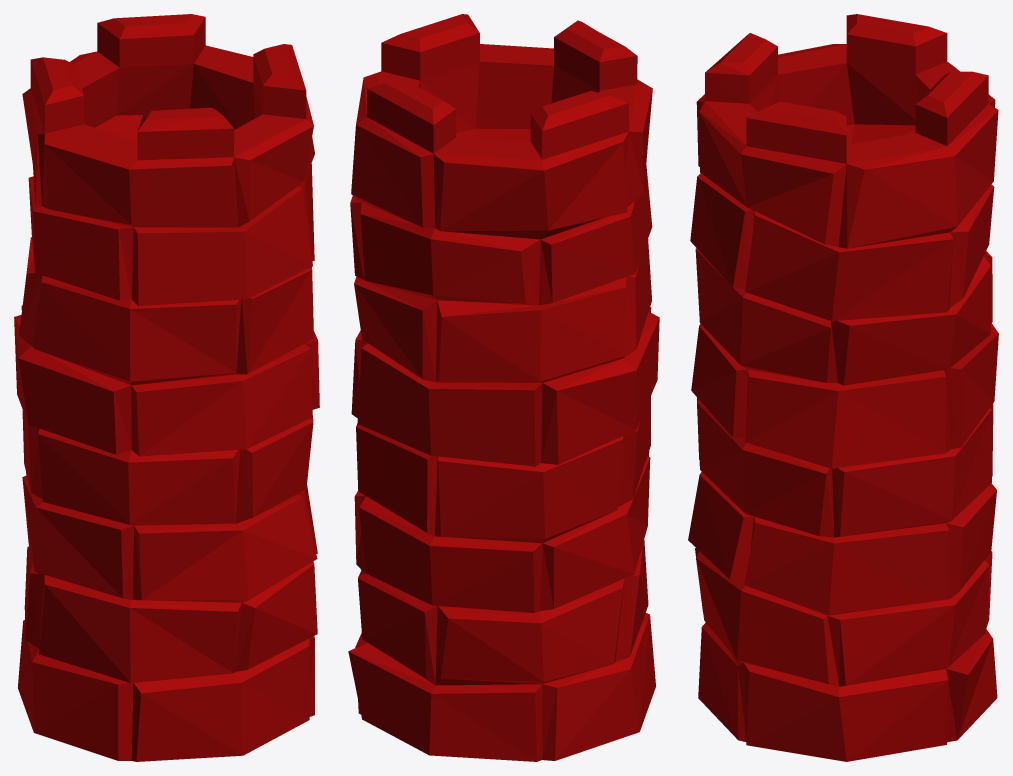
The model's file is Tower.fbx.
3 renders of one model, left to right at view 1: azimuth 30°, elevation 25°; view 2: azimuth 150°, elevation 25°; view 3: azimuth 270°, elevation 25°, orthographic.
Parts seen in each view (by area): view 1: Tower11; view 2: Tower11; view 3: Tower11.
Boxes of the visible parts, bbox=[...] form: Tower11: bbox=[14, 14, 319, 761]; Tower11: bbox=[348, 14, 659, 761]; Tower11: bbox=[688, 14, 998, 761].
Bounding box in the file's own units: 620 × 1344 × 599.
